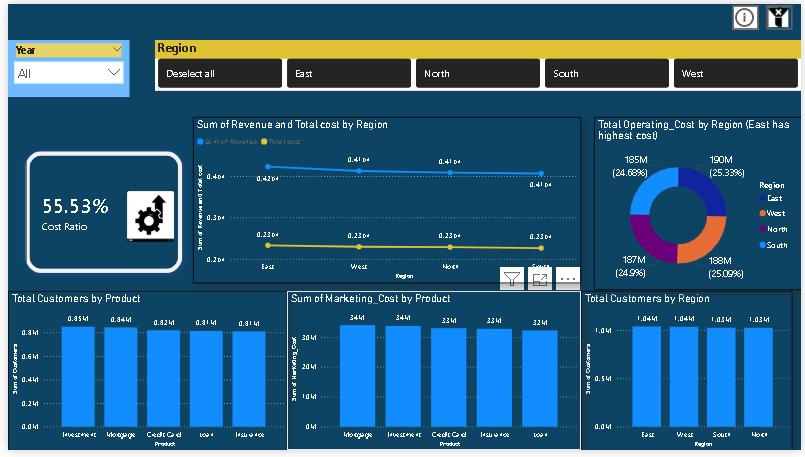

What the dashboard file says about the page in this screenshot:
{"tool":"powerbi","page":{"name":"Operational & Marketing cost","canvas":[1280,720],"ordinal":1},"visuals":[{"type":"cardVisual","fields":{"Data":["financial_dataset_15000_rows.Cost Ratio"]},"box":[0,210.2,309.6,252],"z":0},{"type":"columnChart","title":"Total Customers by Product","fields":{"Category":["financial_dataset_15000_rows.Product"],"Y":["Sum(financial_dataset_15000_rows.Customers)"]},"box":[0,462.2,450.7,257.8],"z":1000},{"type":"clusteredColumnChart","title":"Total Customers by Region","fields":{"Y":["Sum(financial_dataset_15000_rows.Customers)"],"Category":["financial_dataset_15000_rows.Region"]},"box":[924.5,462.2,341.3,257.8],"z":2000},{"type":"donutChart","title":"Total Operating_Cost by Region (East has highest cost)","fields":{"Y":["Sum(financial_dataset_15000_rows.Operating_Cost)"],"Category":["financial_dataset_15000_rows.Region"]},"box":[944.6,182.9,335.5,279.4],"z":3000},{"type":"columnChart","fields":{"Y":["Sum(financial_dataset_15000_rows.Marketing_Cost)"],"Category":["financial_dataset_15000_rows.Product"]},"box":[450.7,462.2,473.8,257.8],"z":4000},{"type":"slicer","fields":{"Values":["financial_dataset_15000_rows.Date.Variation.Date Hierarchy.Year"]},"box":[0,57.6,195.8,92.2],"z":5000},{"type":"advancedSlicerVisual","fields":{"Values":["financial_dataset_15000_rows.Region"]},"box":[237.6,57.6,1042.6,82.1],"z":6000},{"type":"lineChart","fields":{"Y":["Sum(financial_dataset_15000_rows.Revenue)","financial_dataset_15000_rows.Total cost"],"Category":["financial_dataset_15000_rows.Region"]},"box":[298.1,182.9,626.4,267.8],"z":7000},{"type":"actionButton","box":[1222.6,1.4,43.2,40.3],"z":8000},{"type":"actionButton","box":[1167.7,1.6,43.5,40.3],"z":9000}]}

Visuals, with their boxes in screenshot pixels (x1, y1, x2, y2), scaled from the page's 1280x720 canvas onto the 805x457 screenshot:
cardVisual - financial_dataset_15000_rows.Cost Ratio: (left=0, top=133, right=195, bottom=293)
"Total Customers by Product" columnChart: (left=0, top=293, right=283, bottom=456)
"Total Customers by Region" clusteredColumnChart: (left=581, top=293, right=796, bottom=456)
"Total Operating_Cost by Region (East has highest cost)" donutChart: (left=594, top=116, right=804, bottom=293)
columnChart - Sum(financial_dataset_15000_rows.Marketing_Cost) x financial_dataset_15000_rows.Product: (left=283, top=293, right=581, bottom=456)
slicer - financial_dataset_15000_rows.Date.Variation.Date Hierarchy.Year: (left=0, top=37, right=123, bottom=95)
advancedSlicerVisual - financial_dataset_15000_rows.Region: (left=149, top=37, right=804, bottom=89)
lineChart - Sum(financial_dataset_15000_rows.Revenue) x financial_dataset_15000_rows.Total cost: (left=187, top=116, right=581, bottom=286)
actionButton: (left=769, top=1, right=796, bottom=26)
actionButton: (left=734, top=1, right=762, bottom=27)
